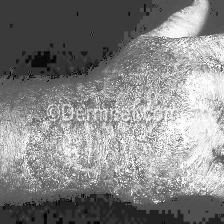Non-Cancerous Skin Condition: (0, 128, 224, 190), (133, 44, 224, 100)
